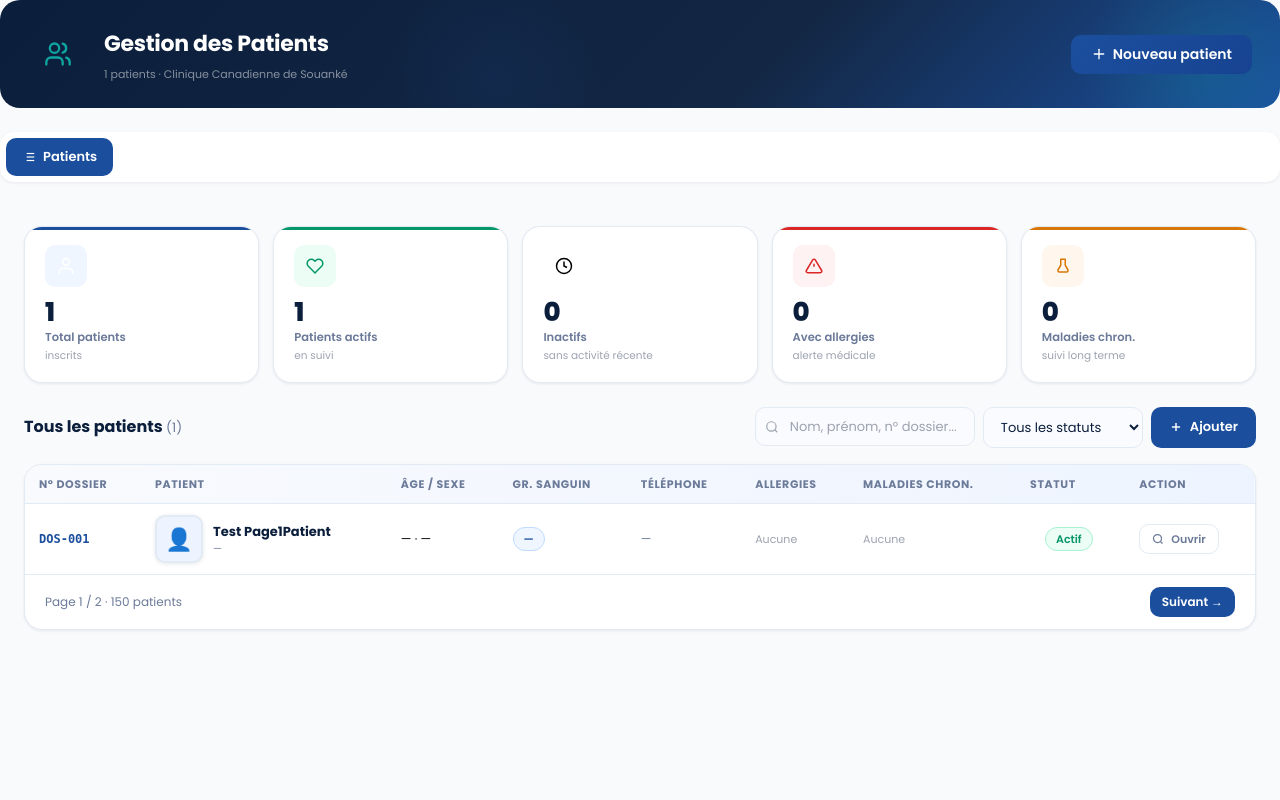
it: PAT-05b — au-delà de 100 patients réels, "Suivant" charge réellement la page 2 (jamais plafonné à la page 1)
Check: the text "DOS-001" is shown, box [39,532,90,546]
Check: the text "Page 1 / 2 · 150 patients" is shown, box [45,593,182,611]
Step 1. Click the button "Suivant →" → (1192, 602), box [1150,587,1235,617]
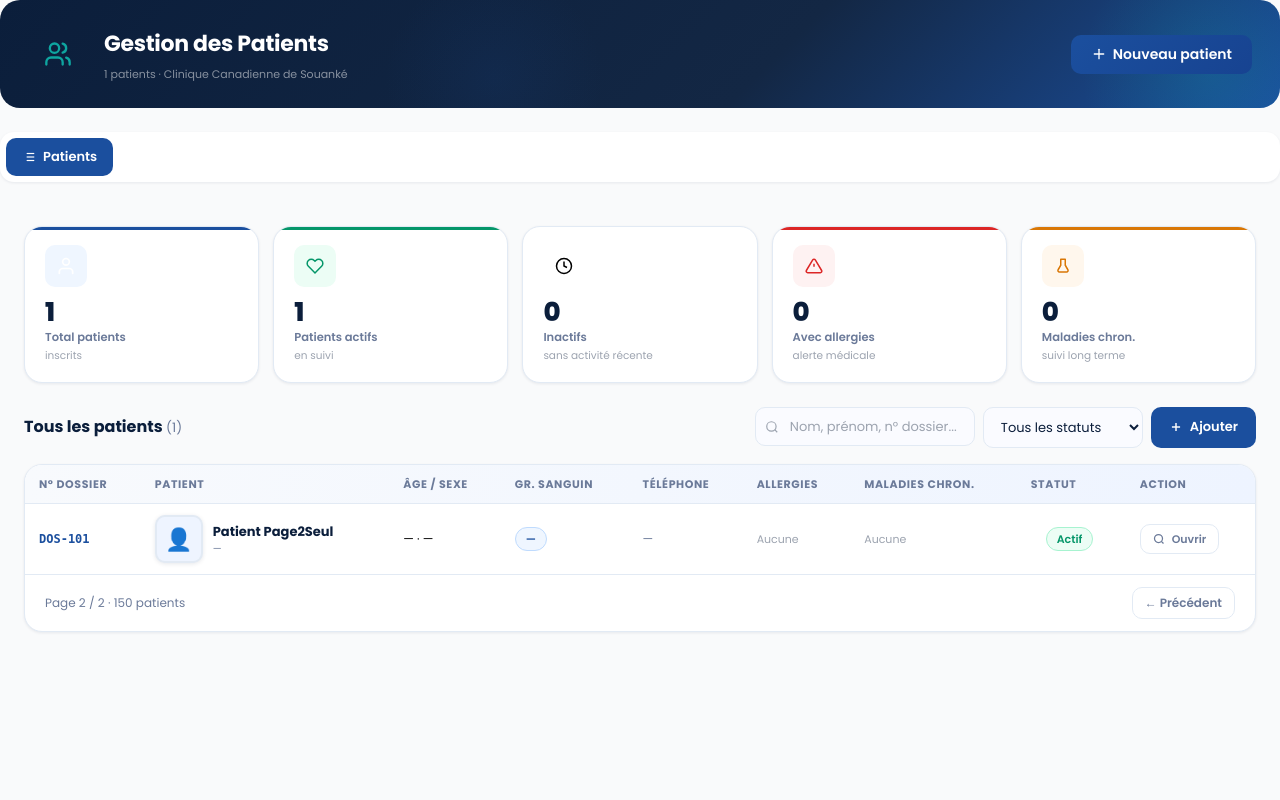
Check: the text "DOS-101" is shown, box [39,532,90,546]
Check: the text "DOS-001" is gone
Check: the text "Page 2 / 2 · 150 patients" is shown, box [45,594,185,612]
